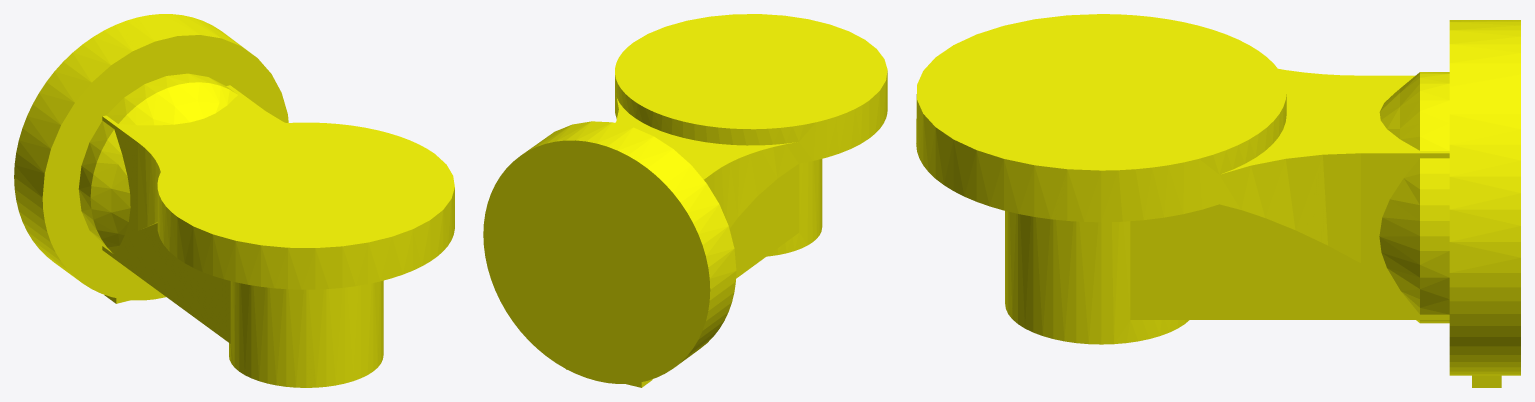
3 renders of one model, left to right at view 1: azimuth 30°, elevation 25°; view 2: azimuth 150°, elevation 25°; view 3: azimuth 270°, elevation 25°, orthographic. The views are drawn at different scales.
Visible parts, largest first — view 1: node; view 2: node; view 3: node.
Part boxes in pixels (x1,y1,x2,y2): node: (14, 14, 454, 387); node: (483, 14, 887, 387); node: (916, 14, 1520, 387).
Size of the model in its own units: 250 by 243 by 408.
